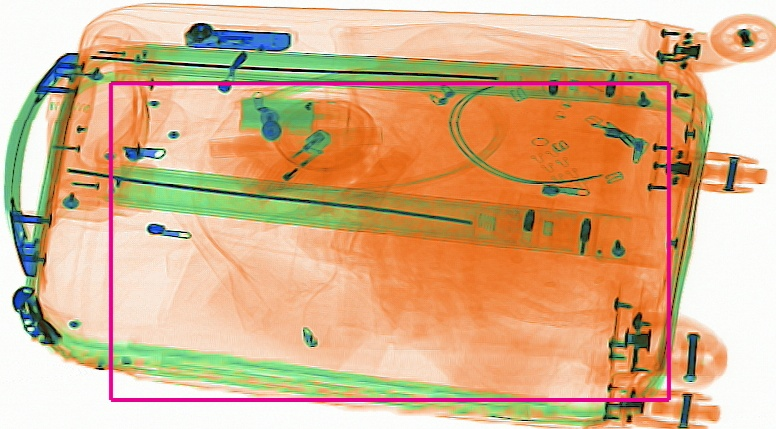lighter: (249, 128, 330, 202)
